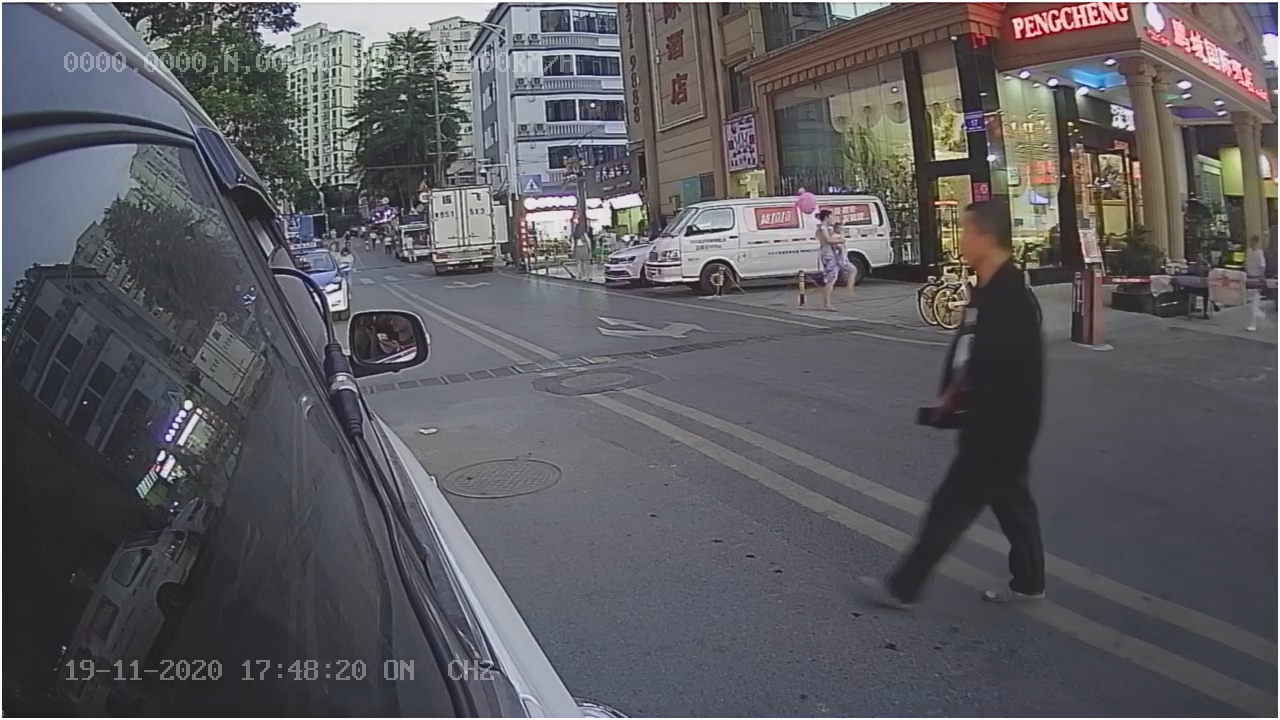person: (880, 204, 1070, 613)
